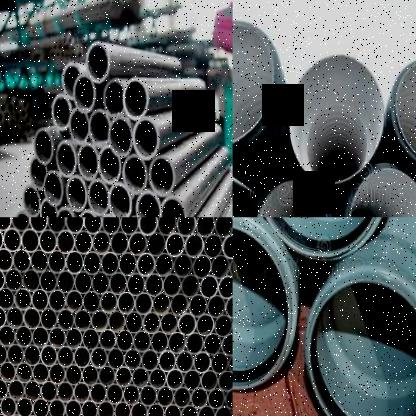pipe: (304, 267, 416, 416), (290, 55, 384, 184), (233, 218, 297, 392), (233, 21, 280, 148), (249, 217, 390, 259), (344, 163, 416, 217), (250, 180, 330, 218), (392, 58, 416, 169), (132, 118, 159, 160), (123, 78, 149, 121), (108, 116, 133, 158), (150, 154, 175, 196), (86, 42, 110, 84), (122, 154, 147, 194), (73, 74, 96, 115), (103, 78, 125, 118), (99, 145, 121, 185), (77, 142, 99, 180), (66, 174, 88, 212), (88, 178, 110, 216), (89, 109, 110, 148), (108, 184, 132, 218), (33, 128, 54, 166), (56, 140, 77, 178), (61, 61, 81, 100), (43, 170, 64, 207), (69, 107, 89, 144), (52, 93, 71, 131), (136, 190, 161, 217), (29, 156, 48, 191), (21, 184, 40, 218), (159, 196, 185, 217), (128, 231, 148, 257), (165, 232, 185, 258), (203, 233, 223, 259), (184, 233, 204, 258), (173, 253, 193, 278), (192, 254, 212, 279), (199, 274, 219, 299), (206, 294, 226, 319), (3, 227, 22, 253), (92, 230, 111, 256), (147, 231, 166, 257), (154, 253, 174, 277), (162, 273, 182, 297), (74, 230, 93, 255), (110, 231, 129, 256), (12, 248, 31, 273), (100, 251, 119, 276), (109, 271, 128, 296), (38, 229, 57, 253), (56, 230, 75, 254), (30, 249, 49, 273), (118, 252, 137, 276), (211, 255, 230, 279), (56, 270, 75, 294), (91, 271, 110, 295), (127, 272, 146, 296), (181, 274, 200, 298), (65, 289, 84, 313), (82, 290, 101, 314), (152, 292, 171, 316), (56, 307, 75, 331), (142, 311, 161, 335), (214, 314, 233, 338), (203, 332, 222, 356), (21, 228, 39, 253), (66, 250, 84, 275), (137, 252, 155, 277), (39, 268, 57, 293), (171, 292, 189, 317), (99, 291, 118, 314), (134, 292, 153, 315), (150, 330, 169, 353), (167, 331, 186, 354), (185, 332, 204, 355), (48, 250, 66, 274), (83, 251, 101, 275), (5, 267, 23, 291), (145, 273, 163, 297), (14, 287, 32, 311), (117, 291, 135, 315), (23, 306, 41, 330), (108, 309, 126, 333), (178, 312, 196, 336), (196, 313, 214, 337), (193, 351, 212, 373), (90, 346, 108, 369), (158, 349, 176, 372), (211, 351, 229, 374), (15, 361, 33, 384), (65, 363, 83, 386), (183, 368, 201, 391), (200, 369, 218, 392), (74, 271, 92, 294), (31, 288, 49, 311), (48, 289, 66, 312), (189, 294, 207, 317), (6, 306, 24, 329), (91, 309, 109, 332), (125, 310, 143, 333), (160, 312, 178, 335), (23, 268, 40, 292), (74, 308, 91, 332), (176, 217, 196, 237), (73, 346, 91, 368), (107, 347, 125, 369), (176, 350, 194, 372), (149, 367, 167, 389), (116, 329, 134, 351), (133, 330, 151, 352), (40, 344, 57, 367), (32, 362, 49, 385), (115, 365, 132, 388), (132, 366, 149, 389), (73, 381, 90, 404), (123, 383, 140, 406), (40, 307, 57, 330), (15, 325, 32, 348), (32, 325, 49, 348), (49, 326, 66, 349), (99, 328, 116, 351), (217, 275, 233, 299), (196, 217, 215, 237), (214, 217, 233, 237), (106, 383, 124, 404), (207, 388, 225, 409), (7, 343, 24, 365), (24, 344, 41, 366), (57, 345, 74, 367), (124, 348, 141, 370), (141, 349, 158, 371), (98, 365, 115, 387), (166, 368, 183, 390), (8, 379, 25, 401), (90, 382, 107, 404), (174, 386, 191, 408), (66, 327, 83, 349), (82, 328, 99, 350), (157, 217, 176, 236), (40, 381, 57, 402), (140, 385, 157, 406), (157, 386, 174, 407), (191, 387, 208, 408), (0, 360, 16, 382), (49, 363, 65, 385), (82, 364, 98, 386), (57, 381, 73, 403), (0, 323, 15, 346), (40, 198, 58, 217), (101, 217, 120, 235), (138, 217, 157, 235), (217, 370, 233, 391), (25, 380, 41, 401), (0, 395, 16, 416), (0, 286, 14, 310), (84, 217, 102, 235), (120, 217, 138, 235), (32, 397, 49, 416), (16, 396, 32, 416), (66, 217, 84, 234), (48, 397, 64, 416), (47, 217, 66, 233), (221, 233, 233, 258), (0, 246, 12, 271), (80, 399, 97, 416), (64, 398, 80, 416), (113, 400, 131, 416), (11, 217, 30, 232), (221, 333, 233, 356), (97, 399, 113, 416), (29, 217, 47, 232), (130, 401, 147, 416), (146, 401, 163, 416), (163, 402, 181, 416), (55, 206, 76, 217), (180, 403, 197, 416), (197, 404, 215, 416), (214, 404, 231, 416), (0, 378, 8, 400), (224, 388, 232, 410), (78, 209, 99, 217), (226, 295, 233, 319), (0, 342, 7, 365), (0, 217, 11, 230), (0, 305, 6, 328), (228, 255, 232, 280), (0, 266, 4, 290), (228, 351, 232, 374), (0, 226, 3, 251), (8, 413, 25, 416), (0, 412, 9, 416), (25, 414, 41, 416)
